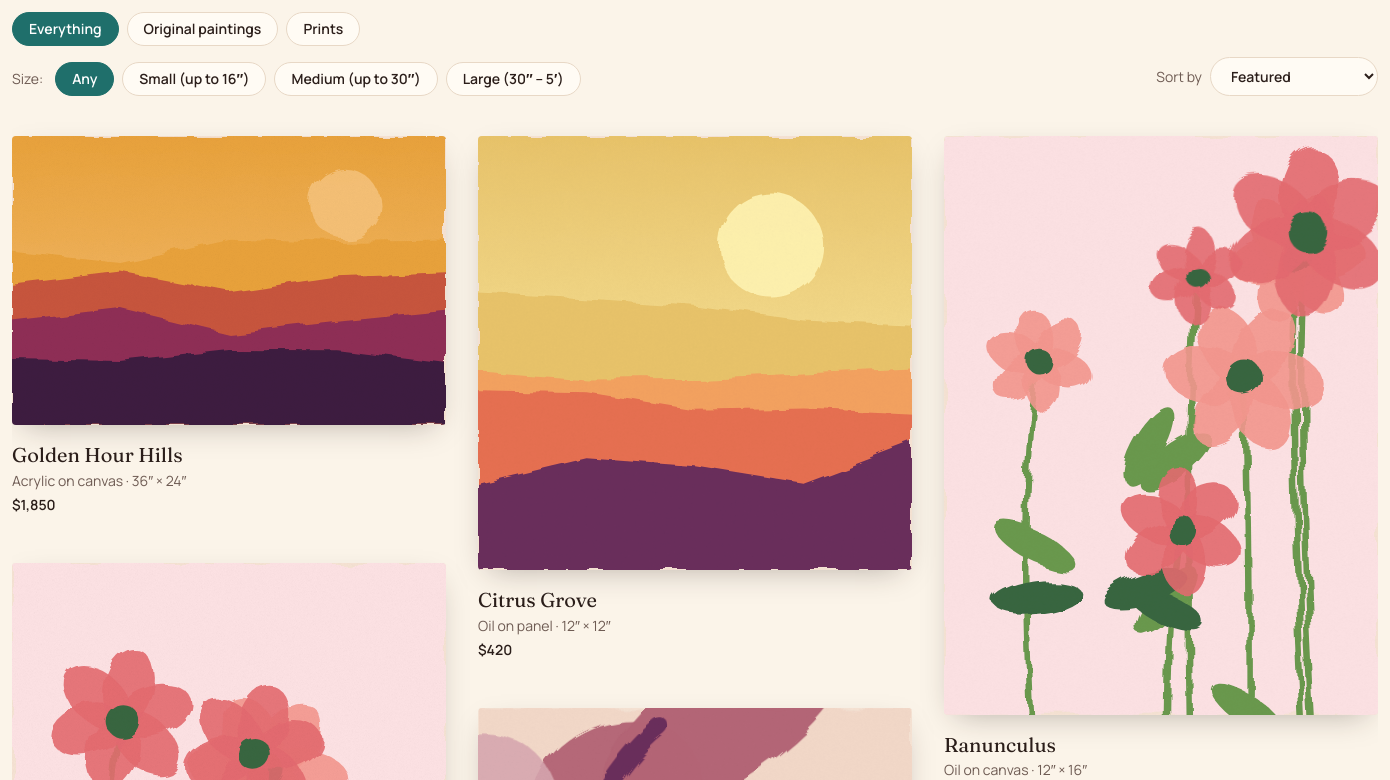
ShopBrowser › shows only work available as prints and hides the size filter
Click the button "Prints".
click(323, 29)  # box 286,12 -> 360,46
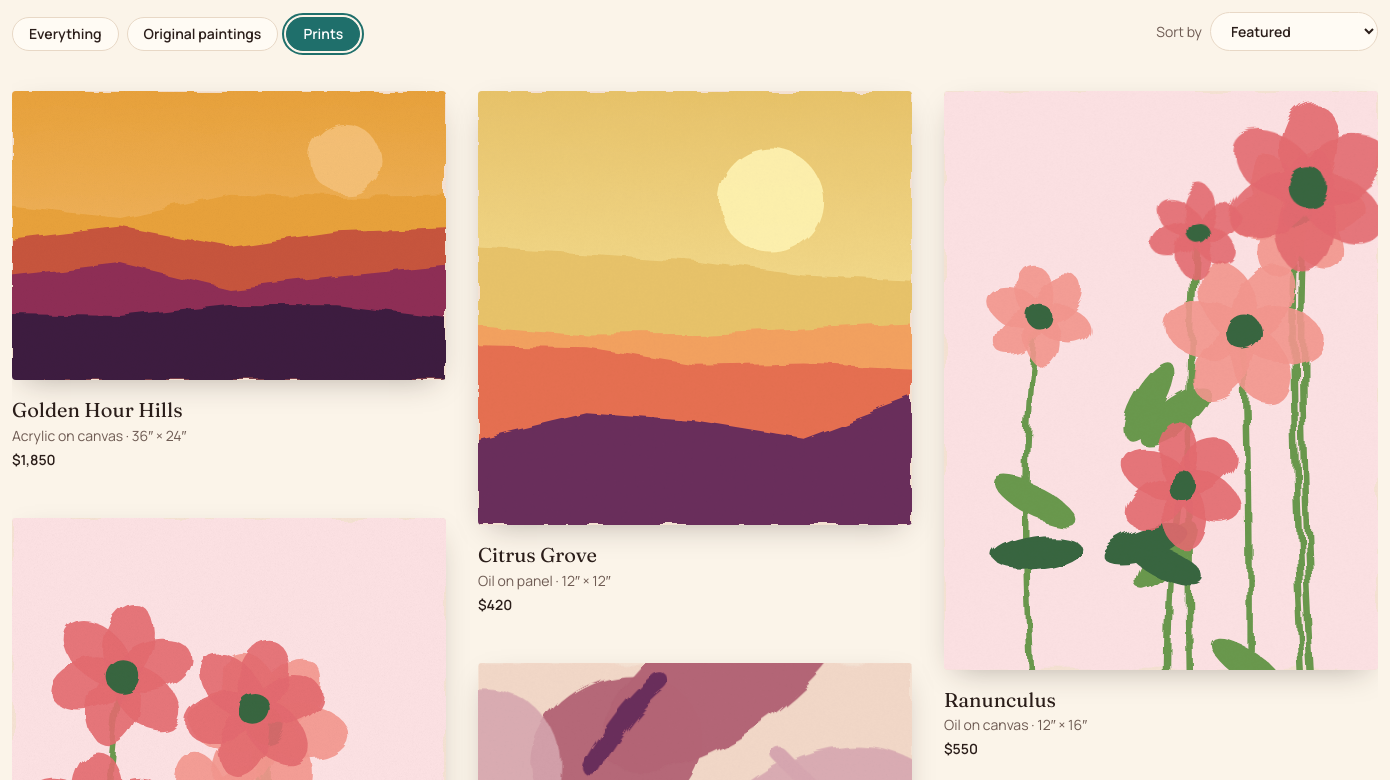
Now the number of headings is 11
Click the button "Everything".
click(65, 34)  # box 12,17 -> 118,51
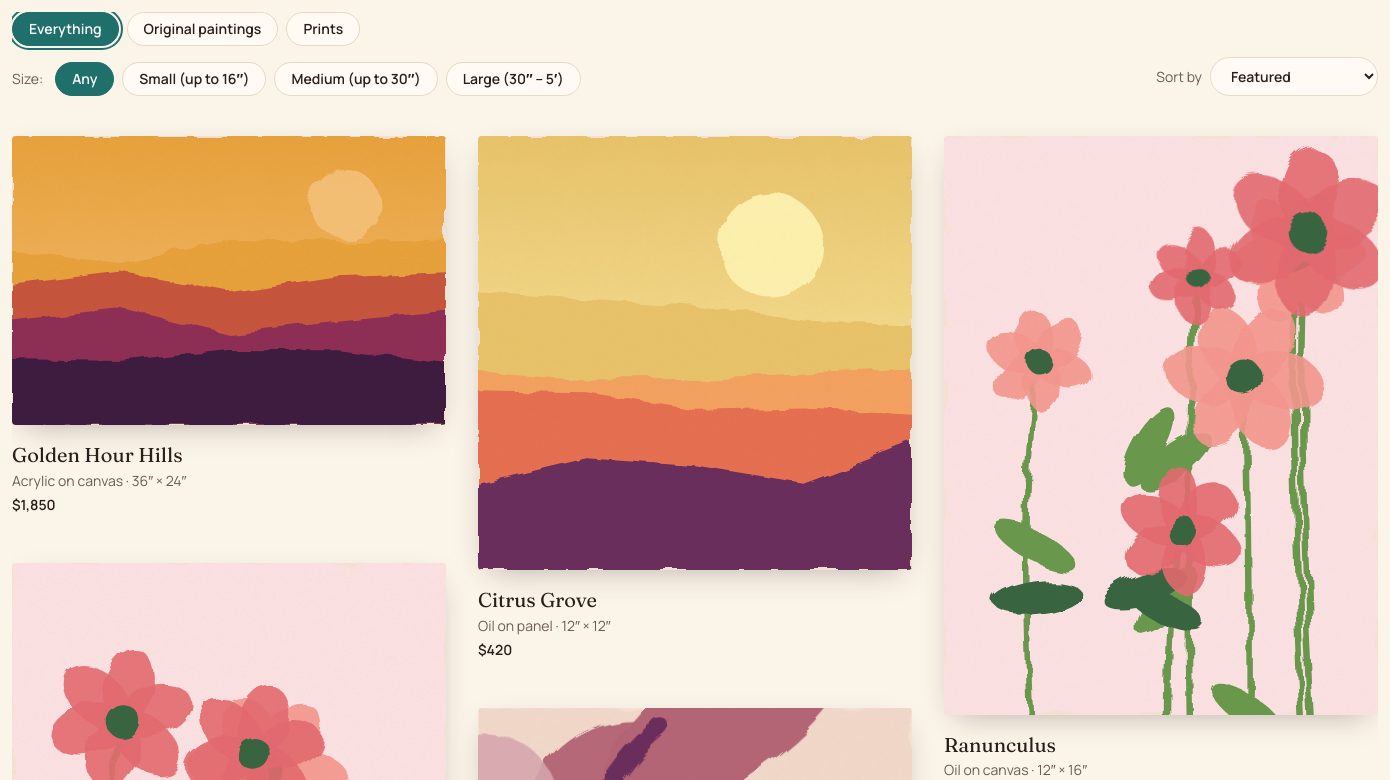
Now the number of headings is 12
Now the element named "Original size" is shown, box 12,62 -> 581,96
